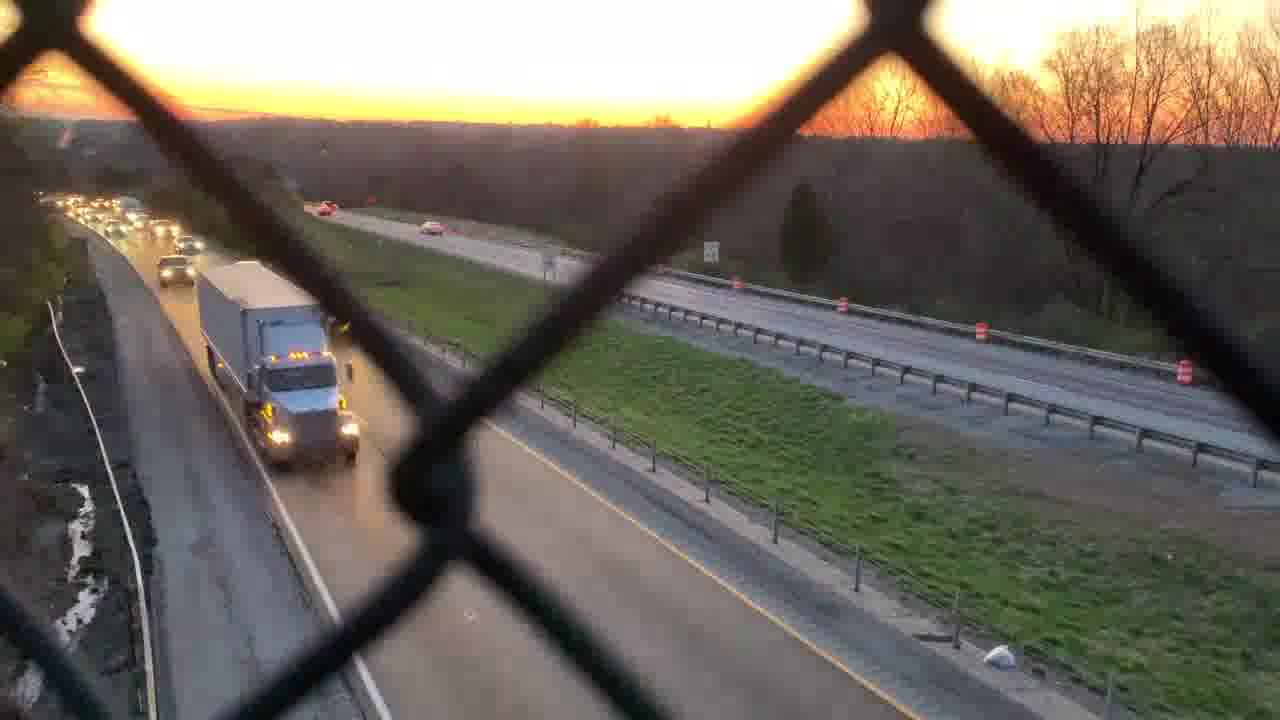heavyTruck: (193, 259, 366, 475)
smallCar: (416, 218, 444, 236)
